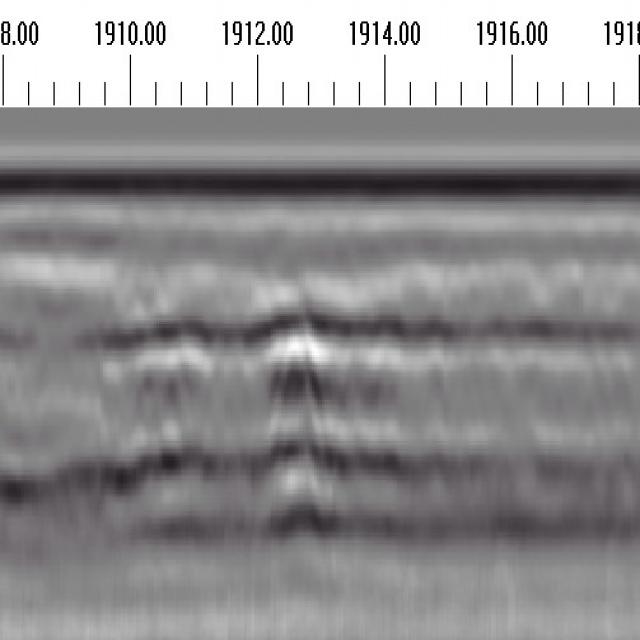loose: (87, 274, 405, 569)
